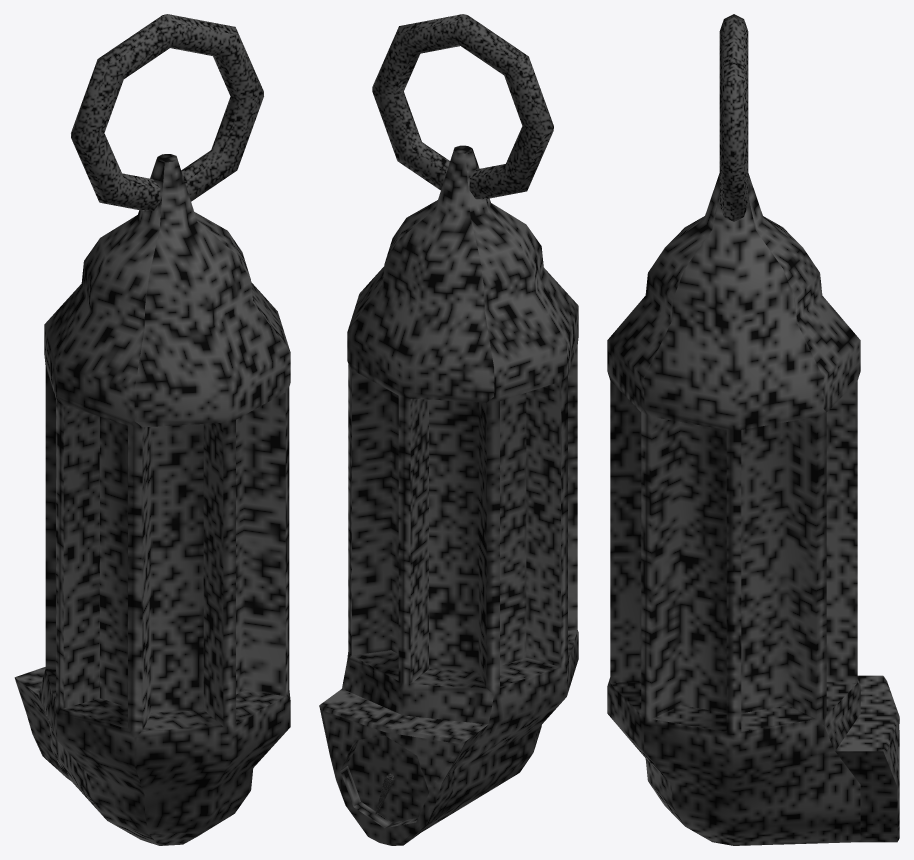
Rendered from Lantern.fbx.
The picture shows the model from 3 angles, left to right: view 1: azimuth 30°, elevation 25°; view 2: azimuth 150°, elevation 25°; view 3: azimuth 270°, elevation 25°; orthographic projection. The views are drawn at different scales.
Visible parts, largest first — view 1: Lantern_Gauge, Haandle; view 2: Lantern_Gauge, Haandle; view 3: Lantern_Gauge, Haandle.
Boxes of the visible parts, x1,y1,x2,y2 form: Lantern_Gauge: (14, 154, 290, 845); Haandle: (71, 14, 263, 211); Lantern_Gauge: (319, 145, 578, 845); Haandle: (372, 14, 553, 199); Lantern_Gauge: (607, 173, 899, 845); Haandle: (719, 14, 748, 221).
Size of the model in its own units: 0.1856 by 0.6615 by 0.2141.
